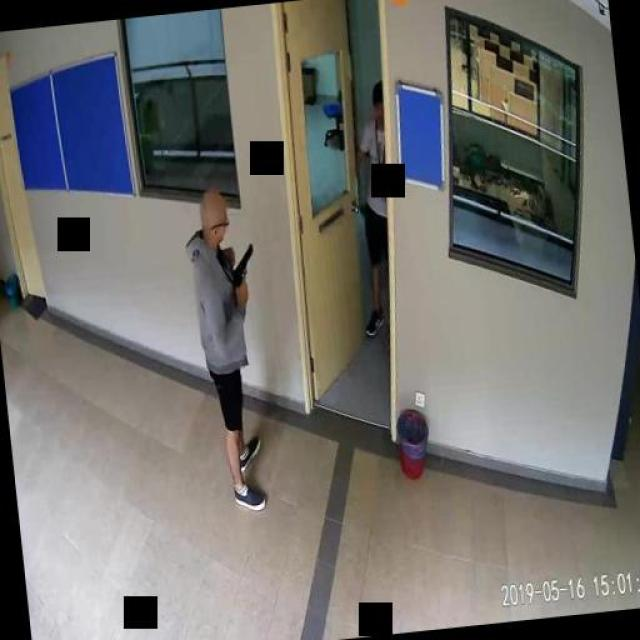gun: (232, 241, 258, 294)
